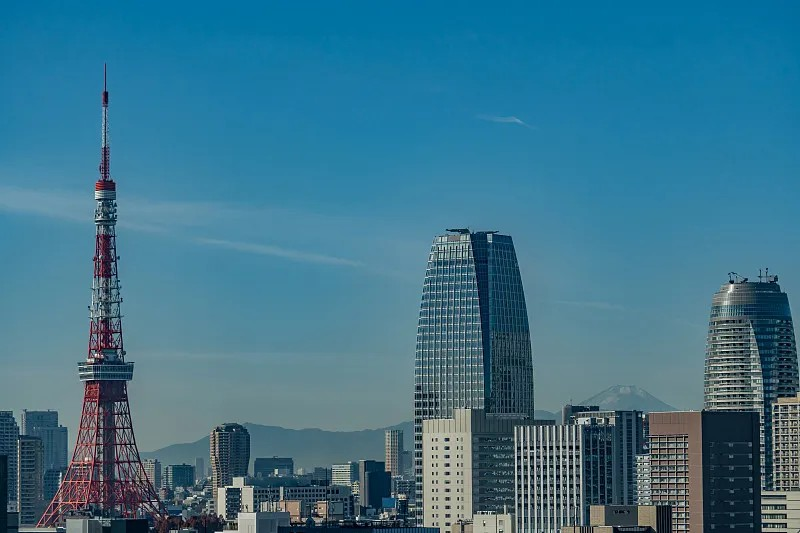Tokyo: (37, 59, 174, 531)
